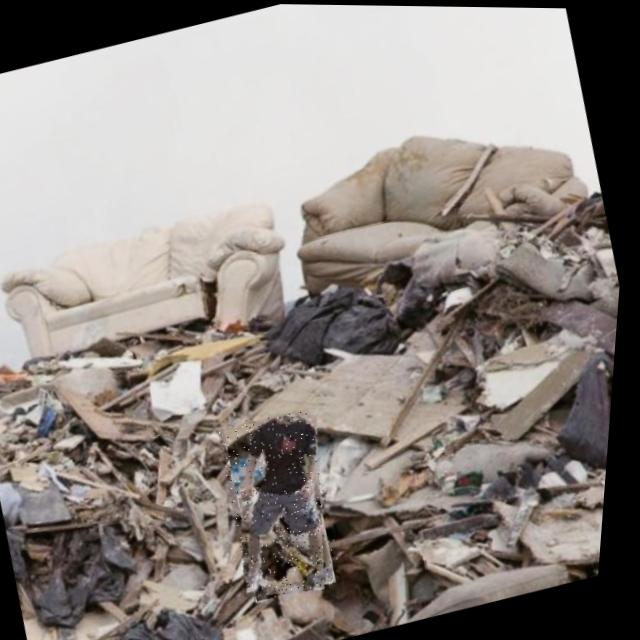Person in Rubble: (214, 405, 361, 604)
